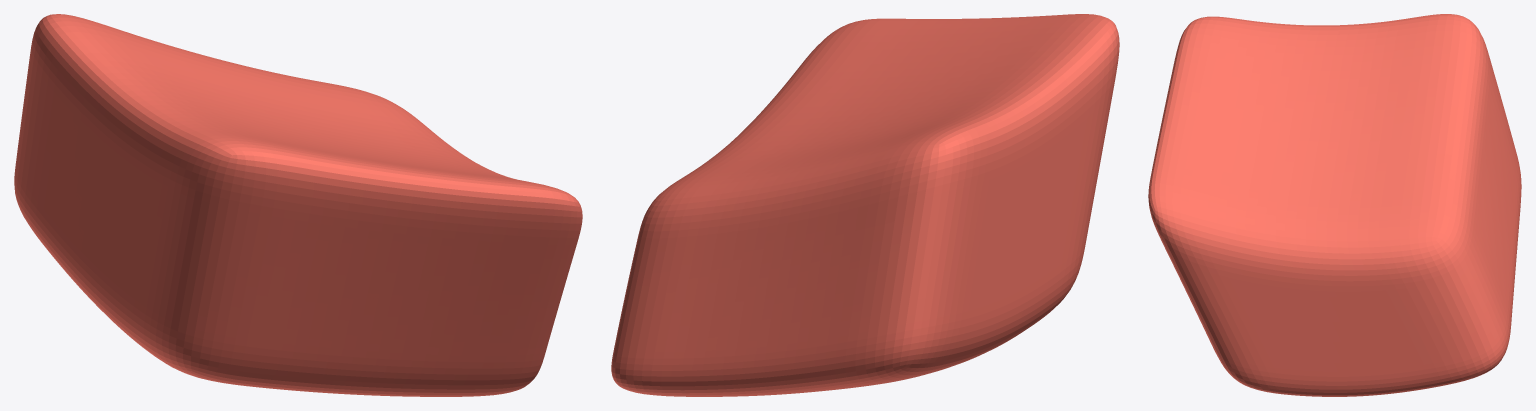
3 renders of one model, left to right at view 1: azimuth 30°, elevation 25°; view 2: azimuth 150°, elevation 25°; view 3: azimuth 270°, elevation 25°, orthographic. The views are drawn at different scales.
Visible parts, largest first — view 1: waves_1.037; view 2: waves_1.037; view 3: waves_1.037.
Part boxes in pixels (x1=…): waves_1.037: x1=14, y1=14, x2=582, y2=396; waves_1.037: x1=611, y1=14, x2=1119, y2=396; waves_1.037: x1=1148, y1=14, x2=1521, y2=396.
Size of the model in its own units: 30.45 by 28.79 by 36.67.
